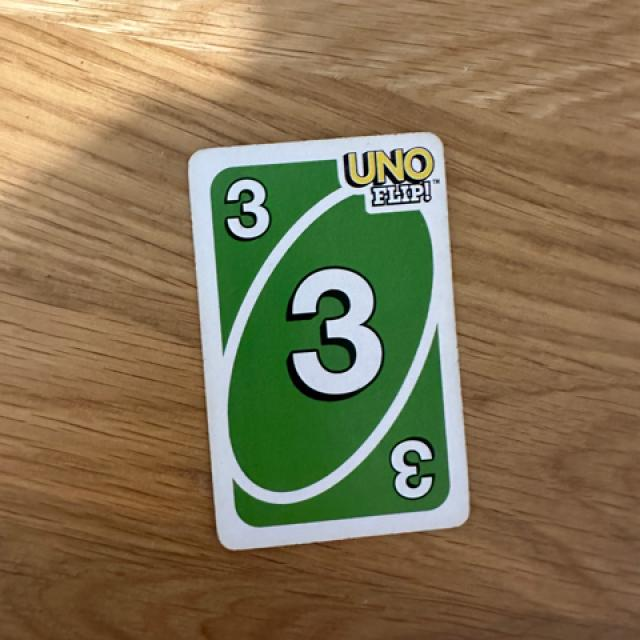lgreen-3: (201, 157, 295, 260)
